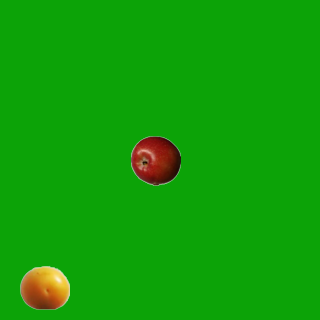Apple Braeburn: (130, 135, 180, 185)
Cherry Wax Yellow: (19, 262, 69, 312)
